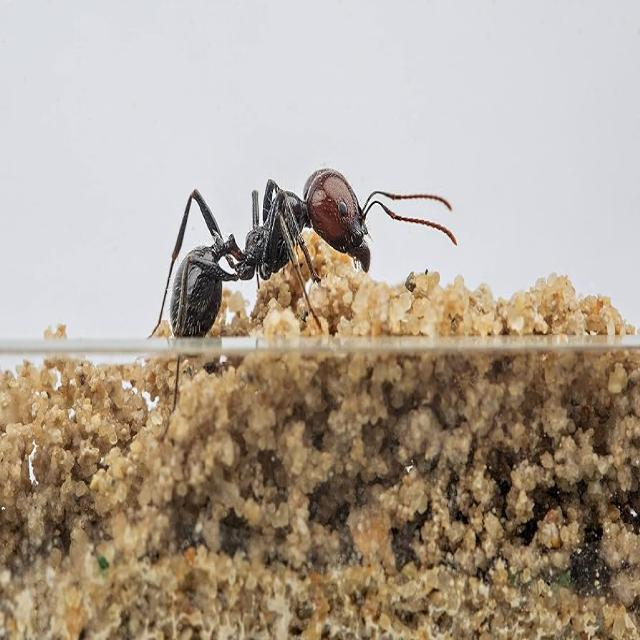Soldier: (152, 166, 457, 339)
